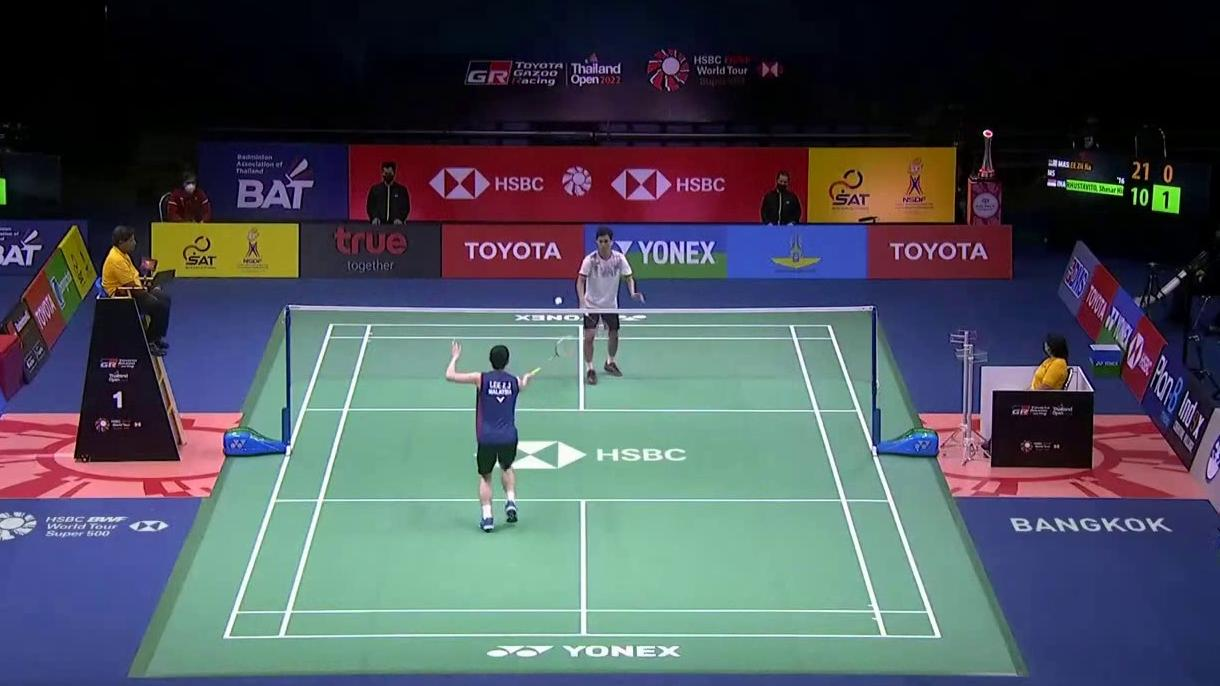racket: (524, 336, 576, 378), (581, 305, 609, 338)
shuttle: (554, 297, 563, 304)
